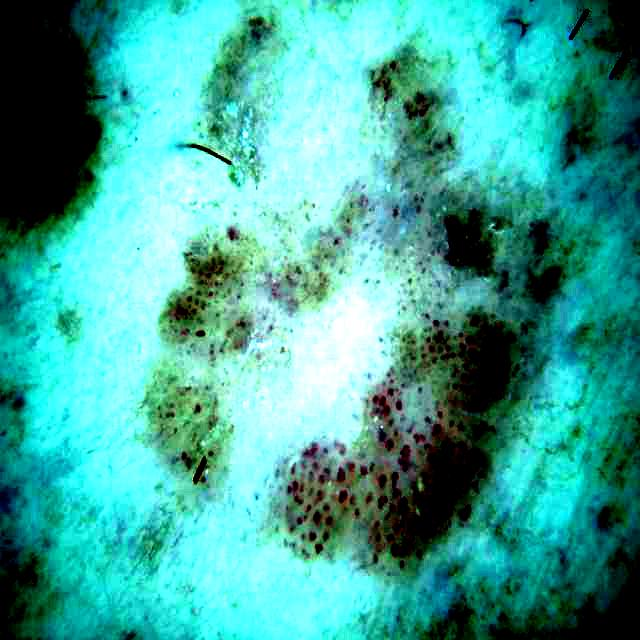AKIEC: (145, 21, 542, 563)
